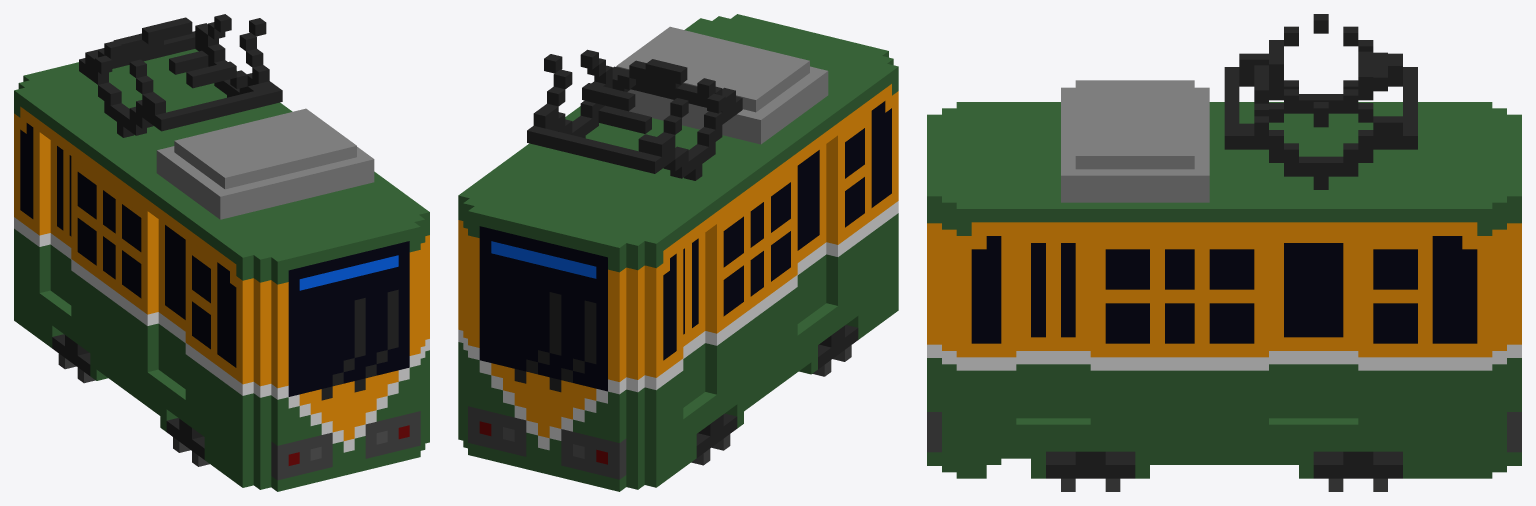
The model's file is kagoshimashiden2.glb.
3 views of the same model, side by side, from view 1: azimuth 30°, elevation 25°; view 2: azimuth 150°, elevation 25°; view 3: azimuth 270°, elevation 25° (orthographic). The views are drawn at different scales.
Visible parts, largest first — view 1: Untitled; view 2: Untitled; view 3: Untitled.
Boxes of the visible parts, x1,y1,x2,y2 form: Untitled: (14,14,429,491); Untitled: (458,14,898,491); Untitled: (927,14,1521,491).
Bounding box in the file's own units: 0.34 × 0.56 × 0.8.
1 material, 1 textured.
